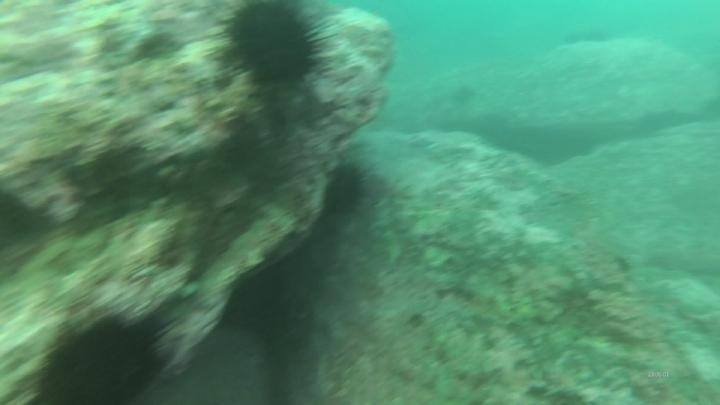echinus: (32, 307, 175, 405), (214, 2, 332, 94), (321, 159, 371, 220)
holothurian: (369, 172, 420, 269)
